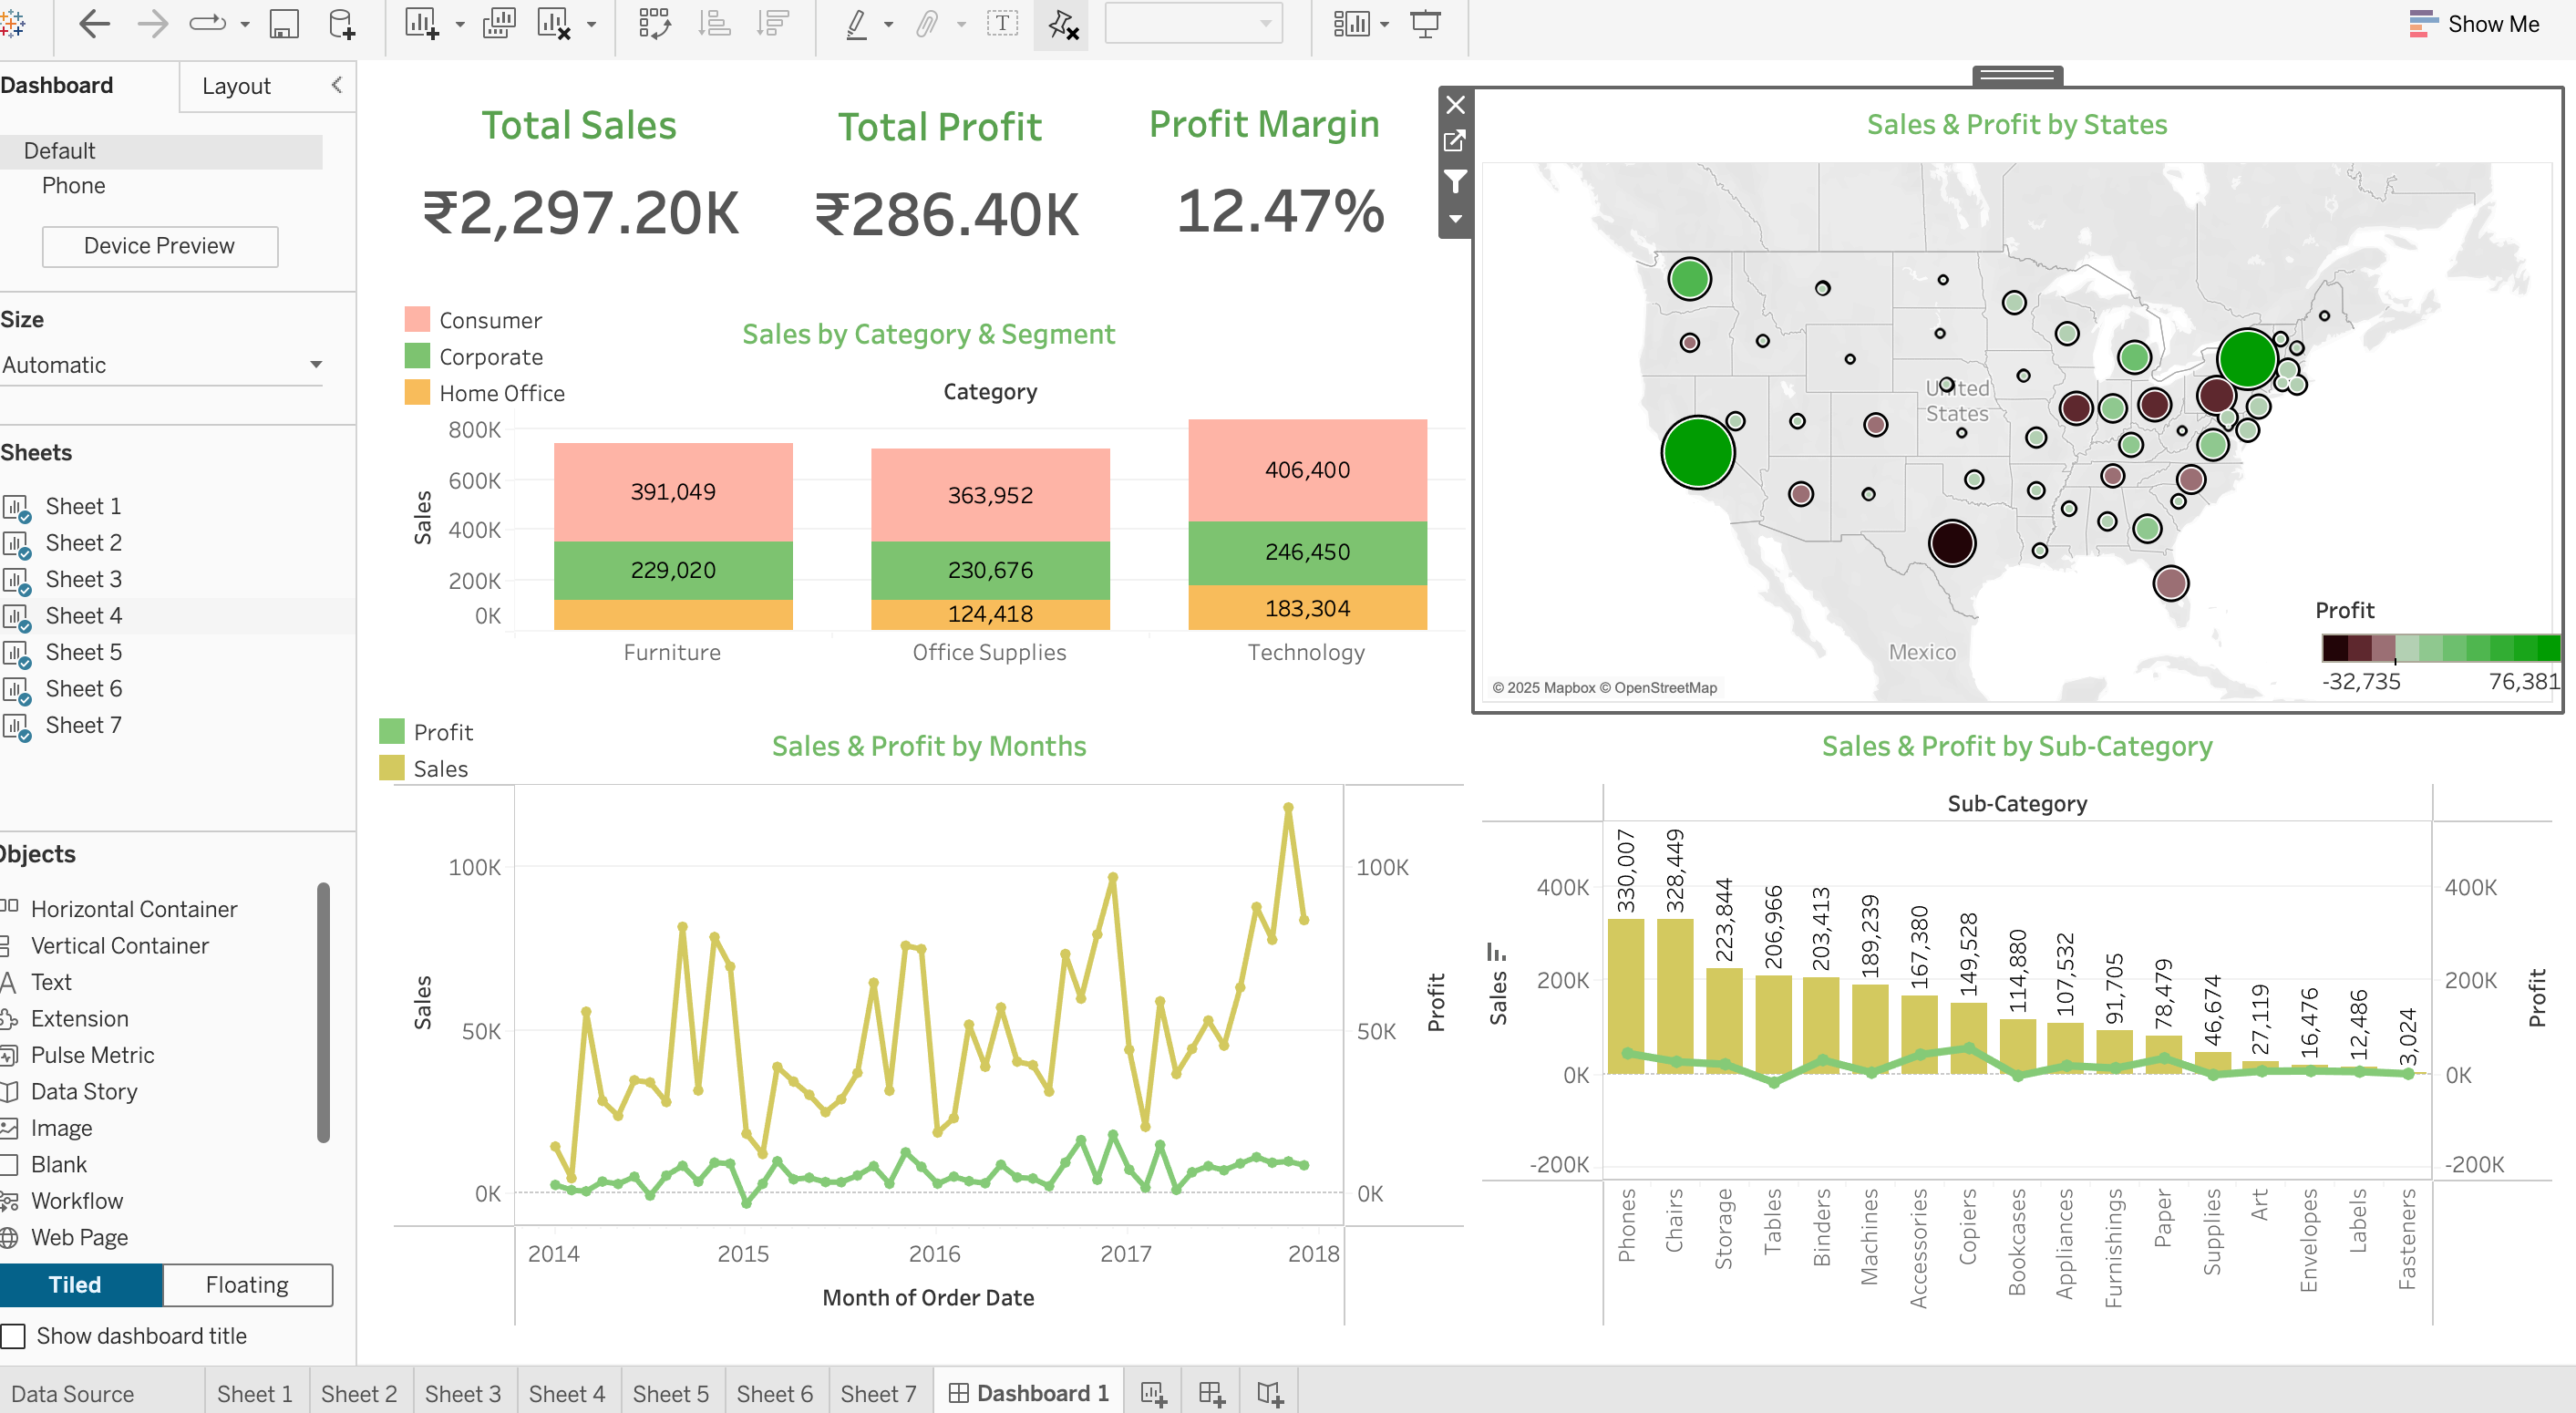

What the dashboard file says about the page in this screenshot:
{"tool":"tableau","page":{"name":"Dashboard 1","canvas":[1000,1000],"units":"permille","ordinal":0},"visuals":[{"type":"worksheet","title":"Sheet 5","mark":"Automatic","box":[18,22.4,167.3,162.2]},{"type":"worksheet","title":"Sheet 7","mark":"Automatic","box":[349.4,22.4,123.3,127.3]},{"type":"worksheet","title":"Sheet 4","mark":"Circle","box":[500,22.4,486.9,477.6]},{"type":"worksheet","title":"Sheet 6","mark":"Automatic","box":[195.9,23.8,135.5,149.7]},{"type":"worksheet","title":"Sheet 1","mark":"Automatic","rows":["Sales"],"cols":["Category"],"box":[13.1,183.2,486.9,316.8]},{"type":"legend","title":"Sheet 1","param":"[federated.1thbe8x13e4wl11h0myfp1jx2tv7].[none:Segment:nk]","box":[18.8,184.6,80.8,85.3]},{"type":"legend","title":"Sheet 4","param":"[federated.1thbe8x13e4wl11h0myfp1jx2tv7].[sum:Profit:qk]","box":[877.1,409.8,113.9,83.9]},{"type":"worksheet","title":"Sheet 2","mark":"Automatic","rows":["Sales","Profit"],"cols":["Order Date"],"box":[13.1,500,486.9,477.6]},{"type":"worksheet","title":"Sheet 3","mark":"Line","rows":["Sales","Profit"],"cols":["Sub-Category"],"box":[500,500,486.9,477.6]},{"type":"legend","title":"Sheet 2","param":"[federated.1thbe8x13e4wl11h0myfp1jx2tv7].[:Measure Names]","box":[7.3,500.7,84.6,55.9]}]}

Visuals, with their boxes on the dashboard's canvas, which has no fixed pixel size, in thousandths of its width and height (x1, y1, x2, y2). These are canvas units, not pixel positions in the 2576x1413 screenshot, which may show the page scaled, cropped or inside an application window:
"Sheet 5" worksheet: 18 22 185 185
"Sheet 7" worksheet: 349 22 473 150
"Sheet 4" worksheet (Circle marks): 500 22 987 500
"Sheet 6" worksheet: 196 24 331 174
"Sheet 1" worksheet: 13 183 500 500
"Sheet 1" legend: 19 185 100 270
"Sheet 4" legend: 877 410 991 494
"Sheet 2" worksheet: 13 500 500 978
"Sheet 3" worksheet (Line marks): 500 500 987 978
"Sheet 2" legend: 7 501 92 557
